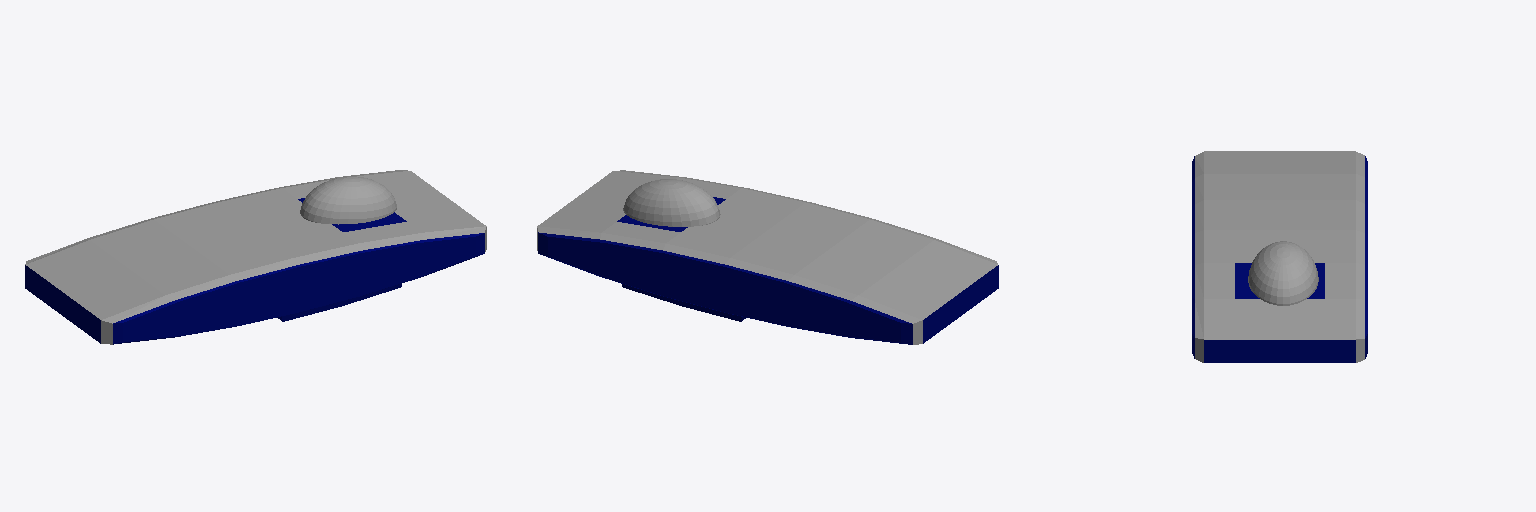
Rendered from solarCar.obj.
3 views of the same model, side by side, from view 1: azimuth 30°, elevation 25°; view 2: azimuth 150°, elevation 25°; view 3: azimuth 270°, elevation 25° (orthographic).
Visible parts, largest first — view 1: Sphere; view 2: Sphere; view 3: Sphere.
Boxes of the visible parts, x1,y1,x2,y2 form: Sphere: [25, 170, 486, 344]; Sphere: [537, 170, 998, 344]; Sphere: [1192, 151, 1367, 362].
Size of the model in its own units: 8.01 by 2.07 by 3.16.